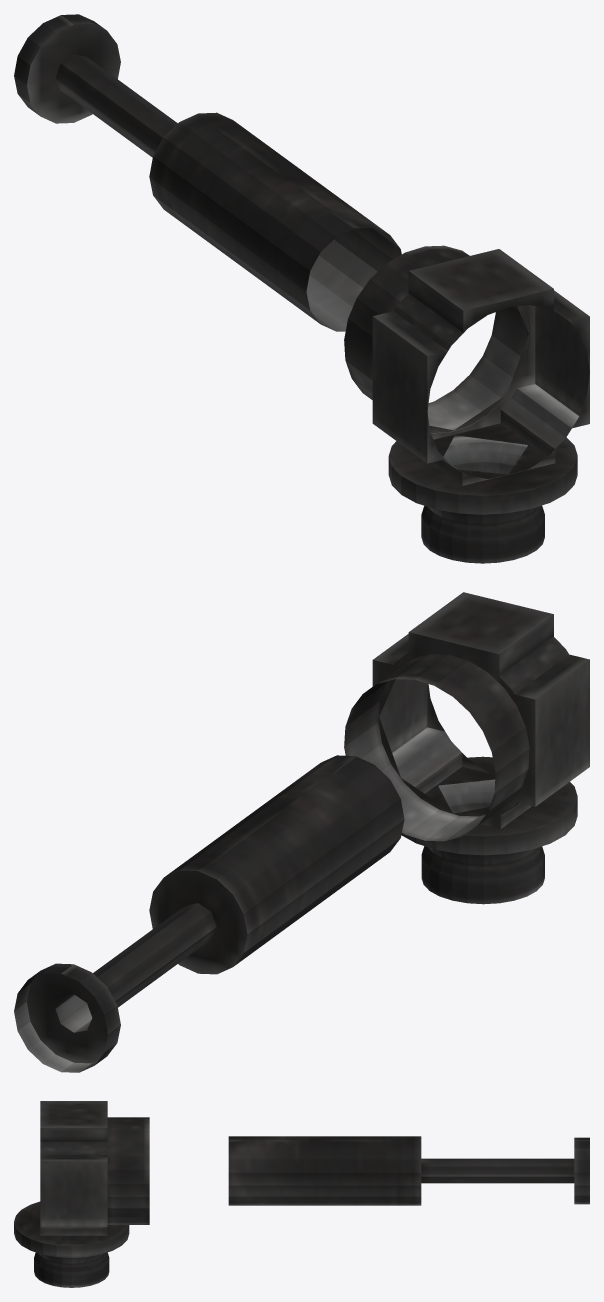
The picture shows the model from 3 angles, top to bottom: view 1: azimuth 30°, elevation 25°; view 2: azimuth 150°, elevation 25°; view 3: azimuth 270°, elevation 25°; orthographic projection. The views are drawn at different scales.
Visible parts, largest first — view 1: TW_65fb023261d5829b2d090755_PZ_Import; view 2: TW_65fb023261d5829b2d090755_PZ_Import; view 3: TW_65fb023261d5829b2d090755_PZ_Import.
Part boxes in pixels (x1,y1,x2,y2): TW_65fb023261d5829b2d090755_PZ_Import: [14, 14, 589, 563]; TW_65fb023261d5829b2d090755_PZ_Import: [14, 592, 589, 1072]; TW_65fb023261d5829b2d090755_PZ_Import: [14, 1101, 589, 1287].
Bounding box in the file's own units: 0.0112 × 0.0555 × 0.0167.
Materials: 1 (1 with a texture image).
